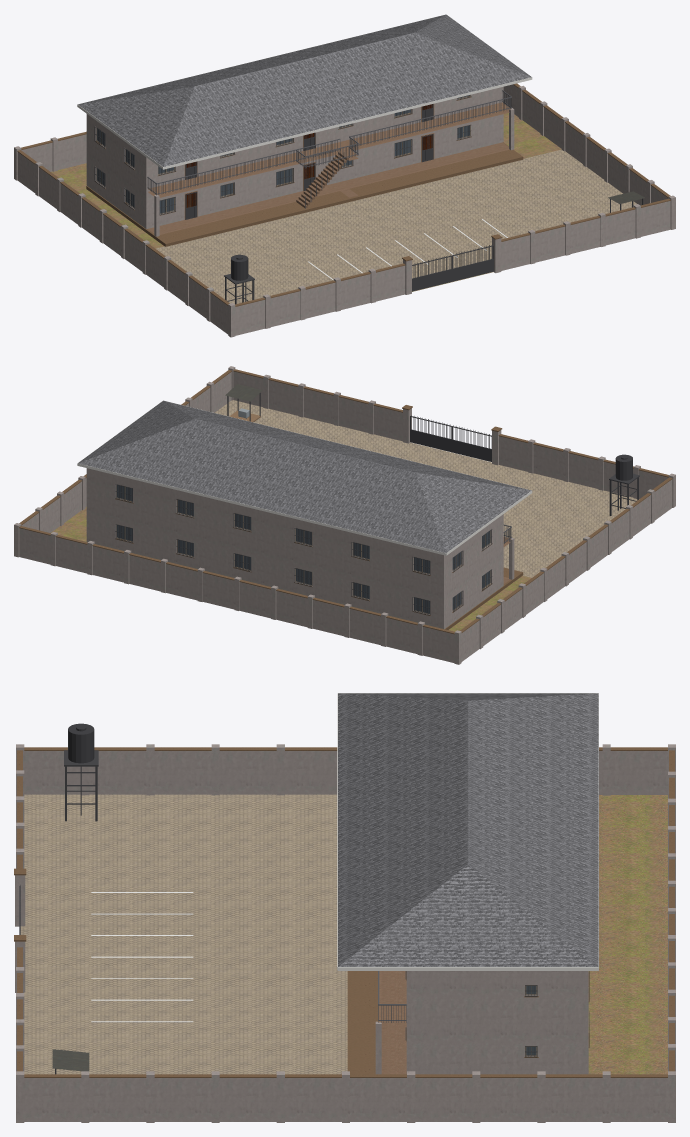
File: flat_exterior.glb
3 renders of one model, top to bottom at view 1: azimuth 30°, elevation 25°; view 2: azimuth 150°, elevation 25°; view 3: azimuth 270°, elevation 25°, orthographic. The views are drawn at different scales.
Parts seen in each view (by area): view 1: flat_exterior_static, gate_right_mesh, gate_left_mesh; view 2: flat_exterior_static, gate_right_mesh, gate_left_mesh; view 3: flat_exterior_static.
Boxes of the visible parts, x1,y1,x2,y2 form: flat_exterior_static: (14,14,675,337); gate_right_mesh: (452,244,493,281); gate_left_mesh: (412,254,452,291); flat_exterior_static: (14,366,675,664); gate_right_mesh: (410,415,451,452); gate_left_mesh: (451,425,491,461); flat_exterior_static: (14,693,675,1122).
Size of the model in its own units: 38.4 by 9.49 by 32.5.
26 materials, 11 textured.
